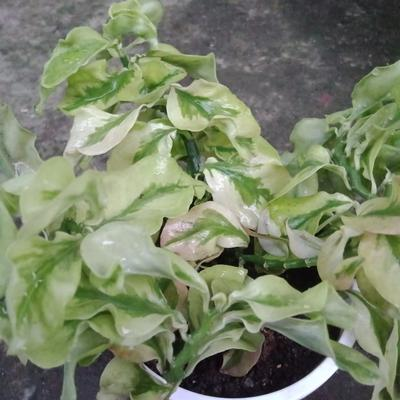Pothos plant: (49, 35, 395, 369)
